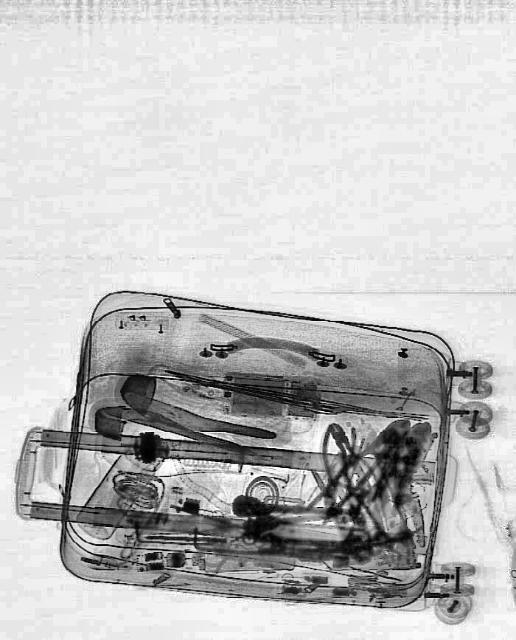Pliers: (304, 408, 418, 528), (321, 415, 383, 505)
